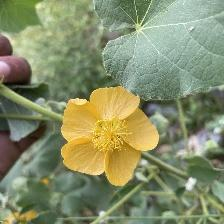indian mallow: (62, 87, 162, 189)
